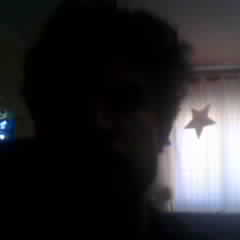without_mask: (46, 60, 160, 199)
